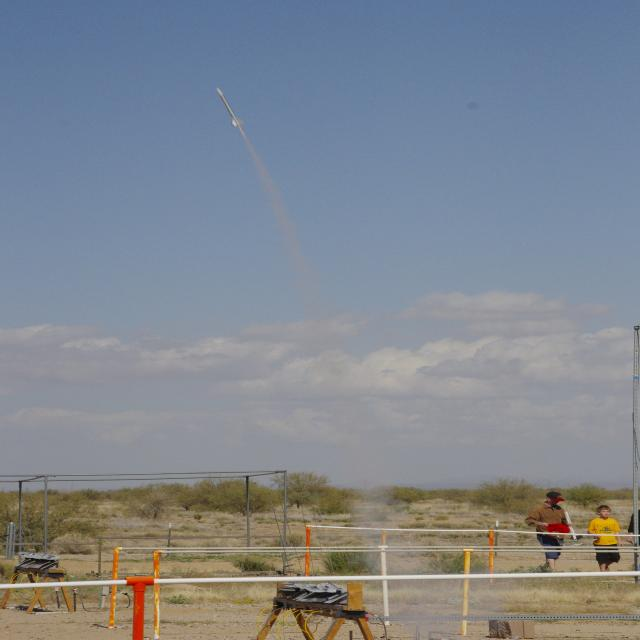Rocket: (216, 87, 245, 127)
